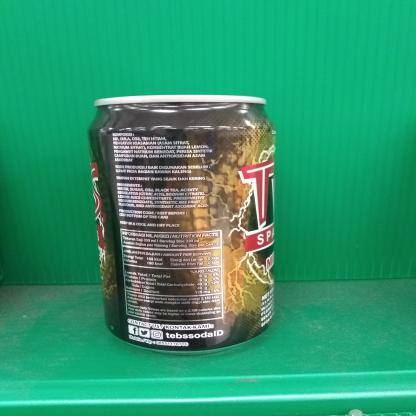bottle: (91, 88, 281, 351)
